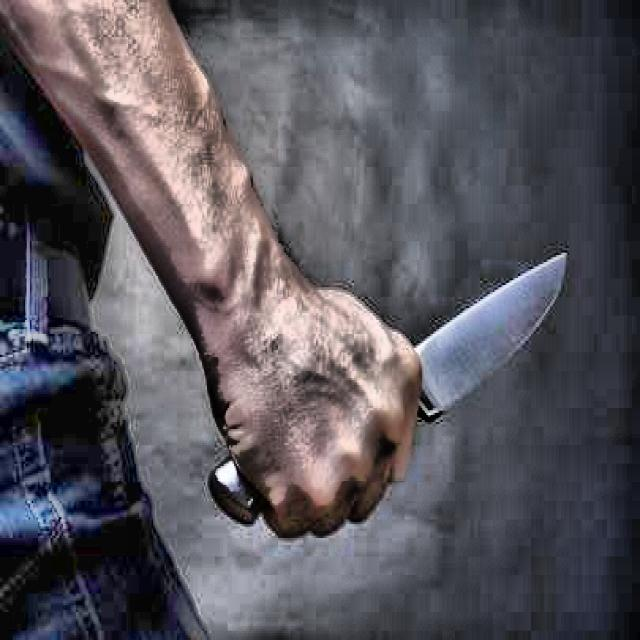knife: (210, 254, 566, 524)
